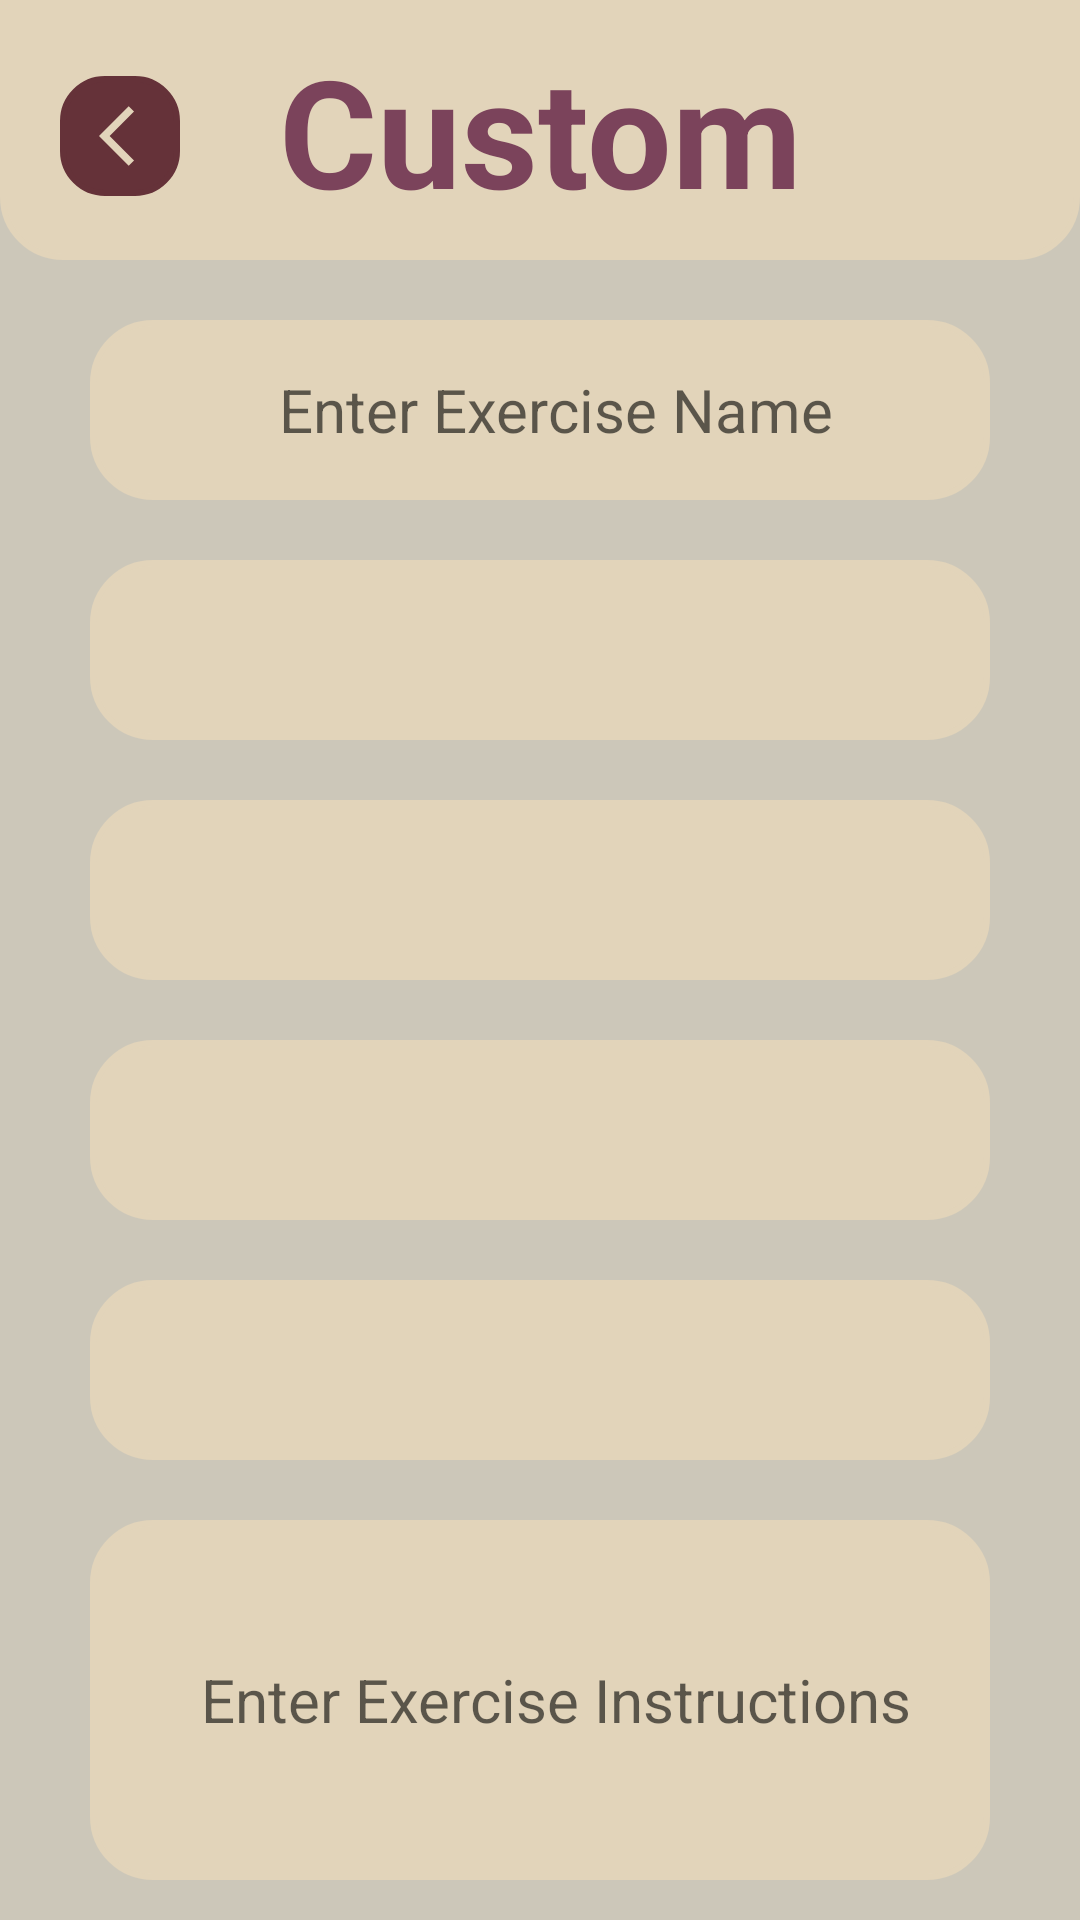

Icon bounding boxes for this 1080 x 1920 phone screenshot, format (x1, y1, x2, y2):
back: (60, 76, 180, 196)
